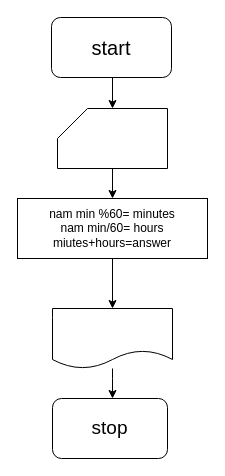
This 225x476 diagram has some shape labels left out. The centre of each missing label's shape, as x and y in pixels:
"answer" belongs at [112,338].
"length=nam min" belongs at [112,138].
